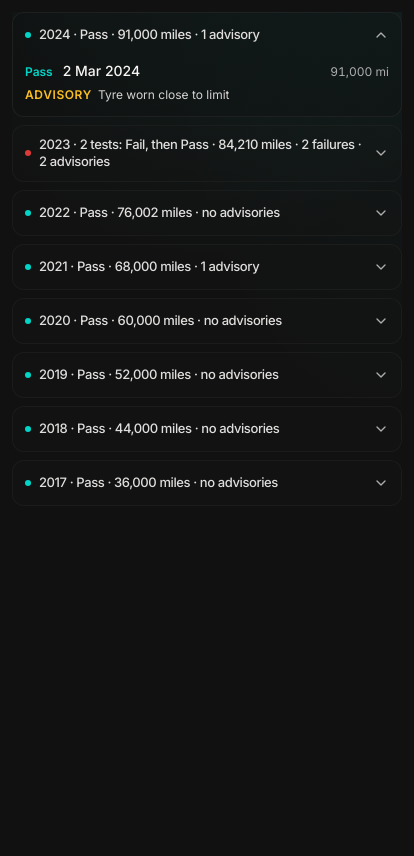
Test: <MotHistoryByYear> › opens the newest year only, and toggles others accessibly
Check: the list item "Tyre worn close to limit" is shown, box [98, 87, 230, 102]
Check: the text "Brake disc worn" is not shown
Click the 2nd button.
click(207, 153)  # box [13, 126, 401, 181]
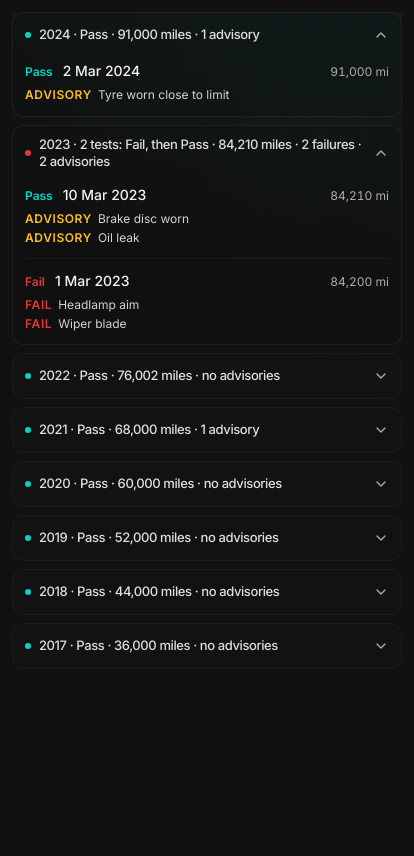
Check: the 2nd button is expanded, box [13, 126, 401, 181]
Check: the list item "Brake disc worn" is shown, box [98, 211, 189, 226]
Check: the list item "Headlamp aim" is shown, box [58, 297, 139, 312]
Click the button "2024 · Pass · 91,000 miles · 1 advisory".
click(207, 35)  # box [13, 13, 401, 57]
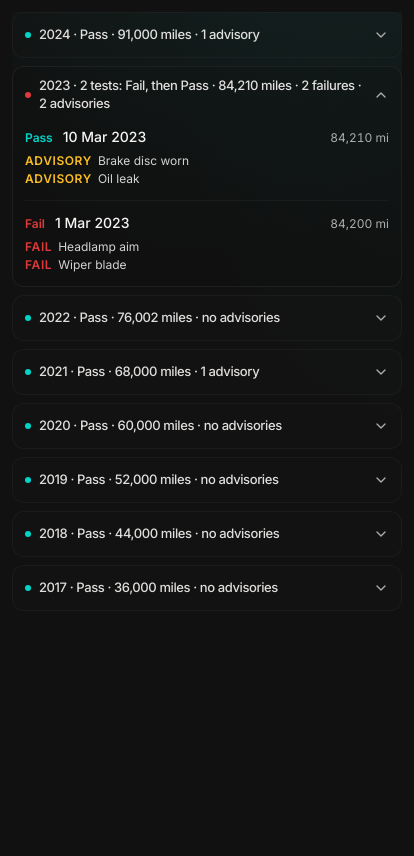
Check: the button "2024 · Pass · 91,000 miles · 1 advisory" is collapsed, box [13, 13, 401, 57]
Check: the list item "Tyre worn close to limit" is gone
